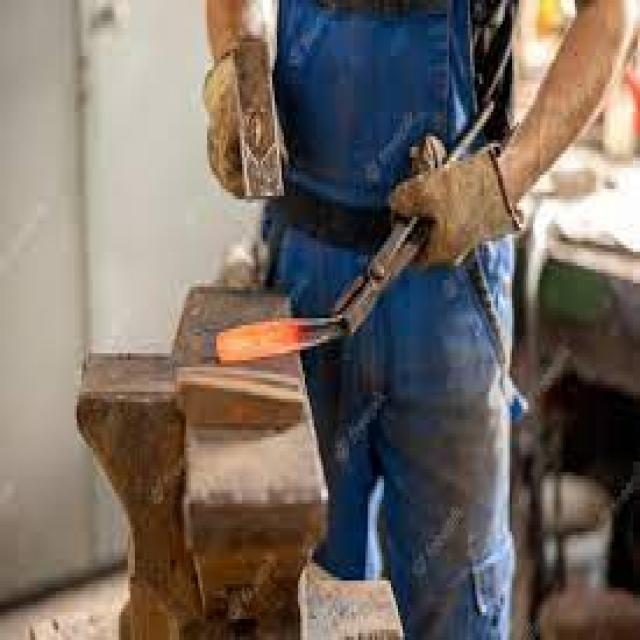hammer: (224, 29, 286, 222)
